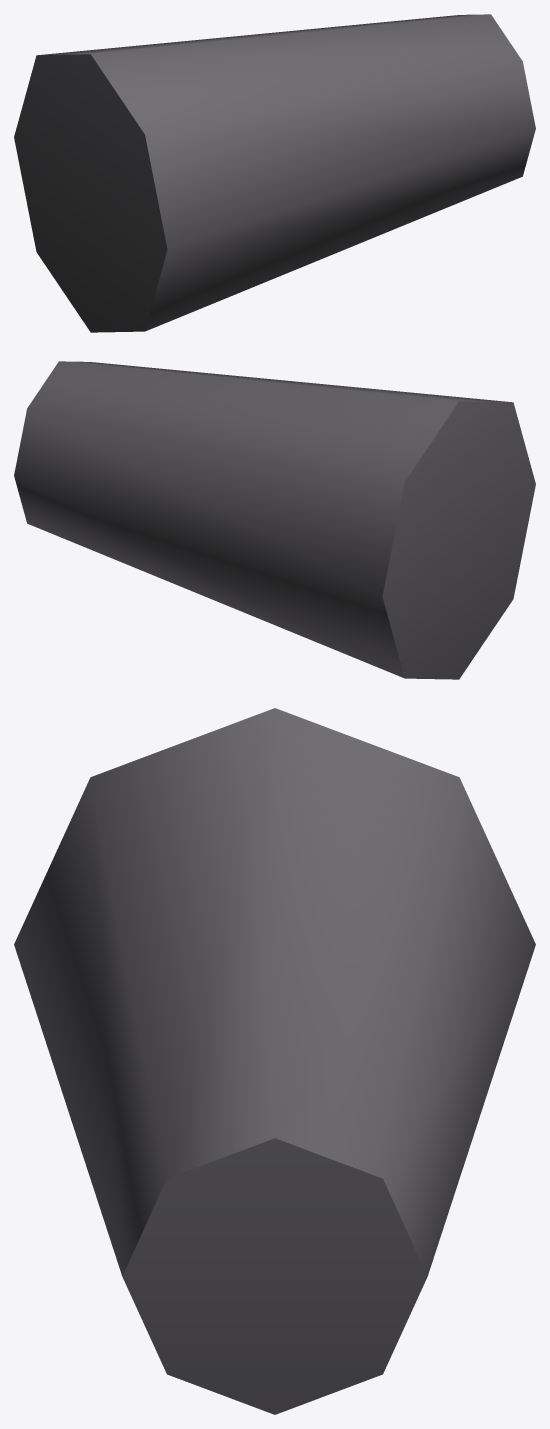
File: MinigunBullet.fbx
The picture shows the model from 3 angles, top to bottom: view 1: azimuth 30°, elevation 25°; view 2: azimuth 150°, elevation 25°; view 3: azimuth 270°, elevation 25°; orthographic projection. The views are drawn at different scales.
Parts seen in each view (by area): view 1: Circle.002; view 2: Circle.002; view 3: Circle.002.
Part boxes in pixels (box(x1,y1,x2,y2)): Circle.002: box(14, 14, 535, 332); Circle.002: box(14, 361, 535, 679); Circle.002: box(14, 708, 535, 1414).
Size of the model in its own units: 1.22 by 0.8084 by 0.8084.
